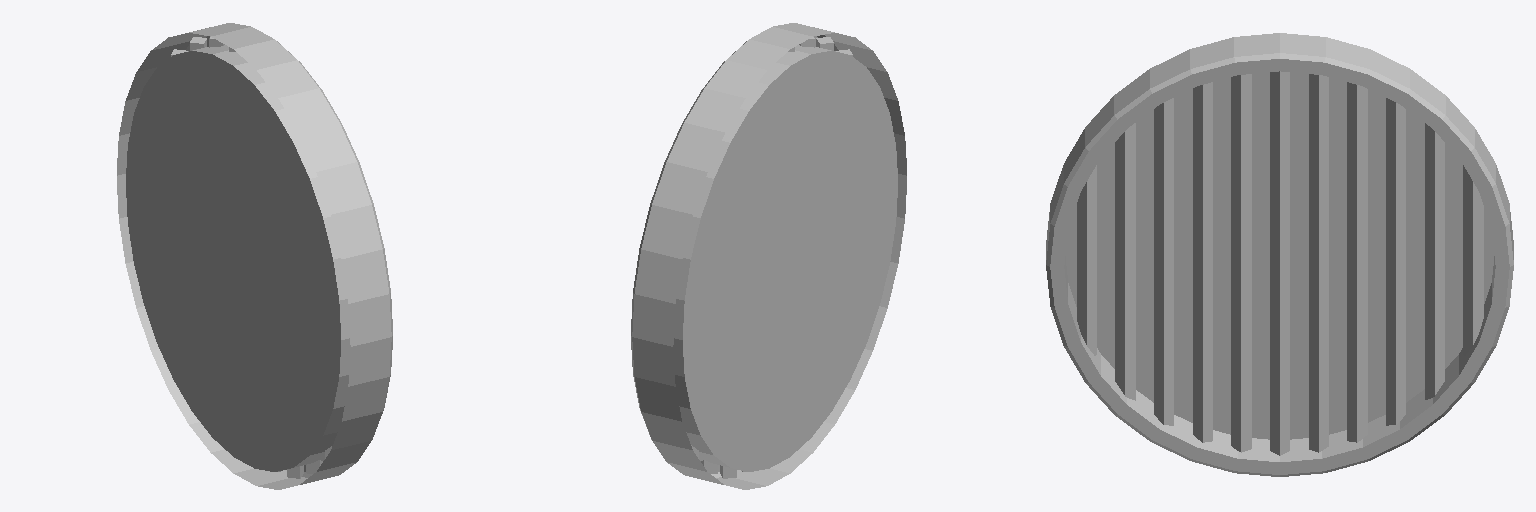
Rendered from vent5_Low.obj.
3 renders of one model, left to right at view 1: azimuth 30°, elevation 25°; view 2: azimuth 150°, elevation 25°; view 3: azimuth 270°, elevation 25°, orthographic.
Visible parts, largest first — view 1: Low; view 2: Low; view 3: Low.
Part boxes in pixels (x1,y1,x2,y2): Low: (117,23,392,489); Low: (631,23,906,489); Low: (1046,33,1513,476).
Size of the model in its own units: 0.4491 by 4.06 by 4.06.